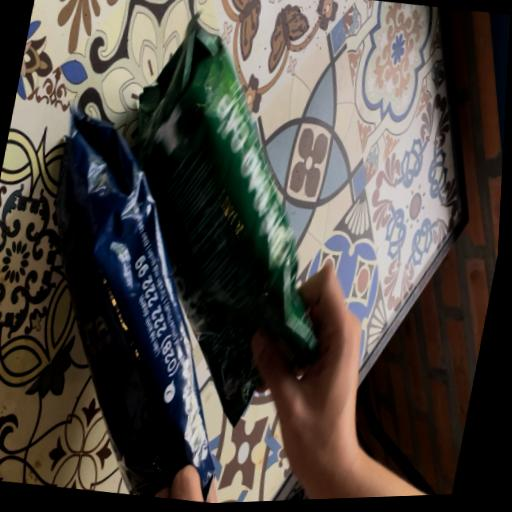cafe_hat: (54, 114, 213, 497)
cafe_xay: (138, 16, 316, 423)
